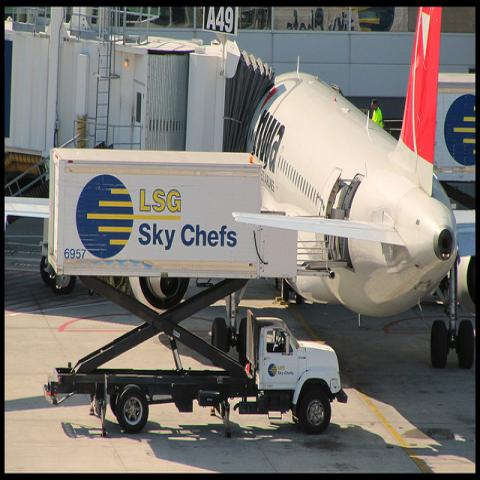truck: (43, 149, 350, 440)
